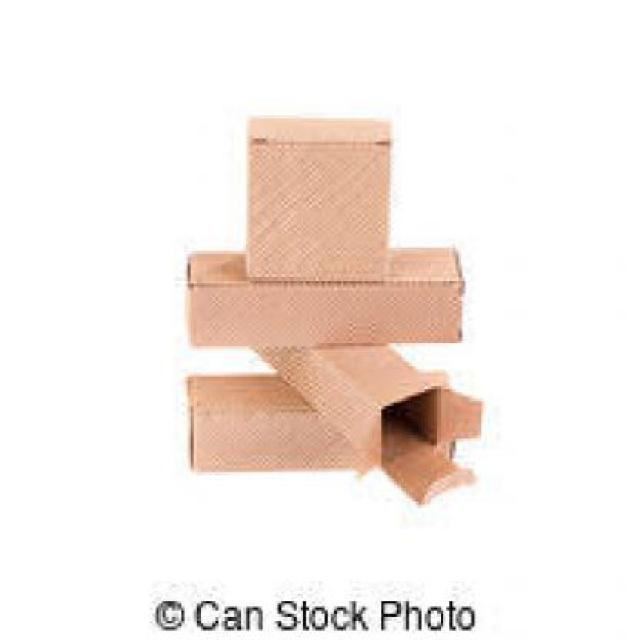CARDBOARD: (250, 340, 478, 505), (238, 112, 387, 280), (184, 251, 462, 340), (184, 373, 453, 462)
